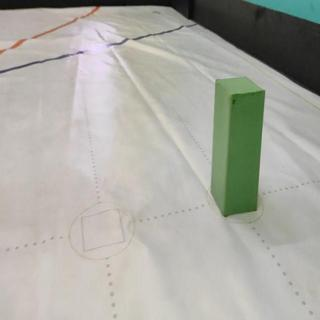greenbox: (212, 75, 265, 216)
